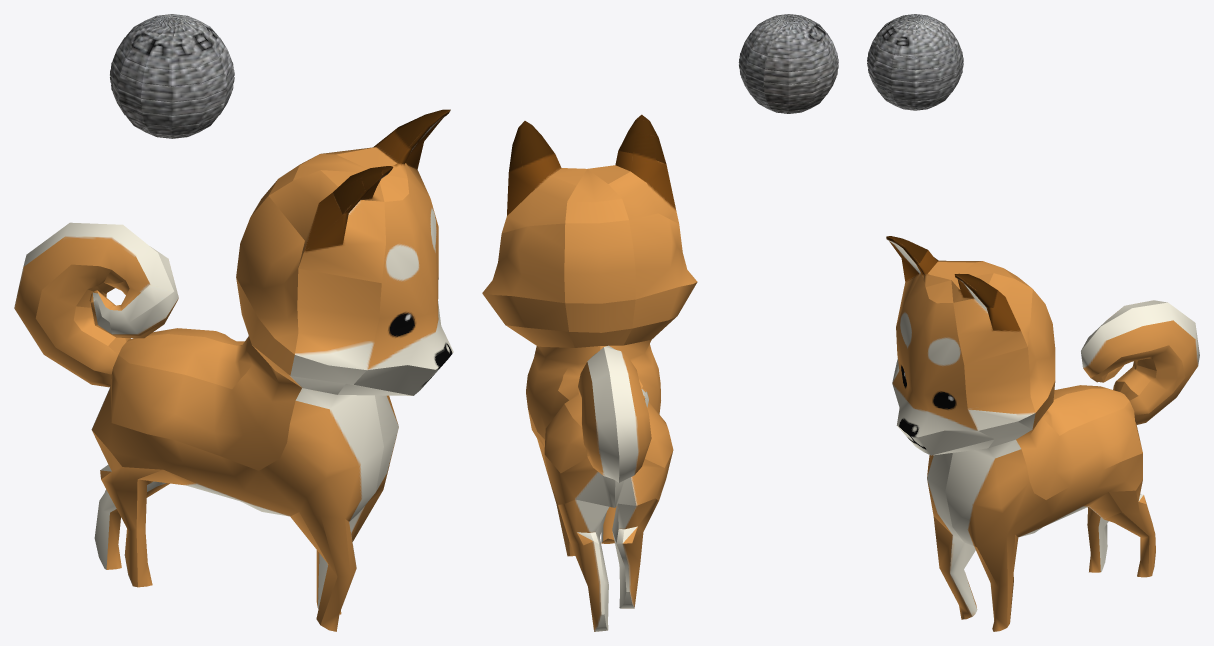
Rendered from ball_frame5.obj.
The picture shows the model from 3 angles, left to right: view 1: azimuth 30°, elevation 25°; view 2: azimuth 150°, elevation 25°; view 3: azimuth 270°, elevation 25°; orthographic projection. The views are drawn at different scales.
Visible parts, largest first — view 1: walk1:newRigging:BodzL1, pSphere1; view 2: walk1:newRigging:BodzL1, pSphere1; view 3: walk1:newRigging:BodzL1, pSphere1.
Boxes of the visible parts, x1=… form: walk1:newRigging:BodzL1: x1=14, y1=109, x2=453, y2=631; pSphere1: x1=110, y1=14, x2=234, y2=138; walk1:newRigging:BodzL1: x1=482, y1=114, x2=697, y2=631; pSphere1: x1=738, y1=14, x2=838, y2=113; walk1:newRigging:BodzL1: x1=886, y1=236, x2=1199, y2=631; pSphere1: x1=867, y1=14, x2=963, y2=110.
Bounding box in the file's own units: 6.08 × 10.91 × 6.21.
2 materials, 2 textured.
